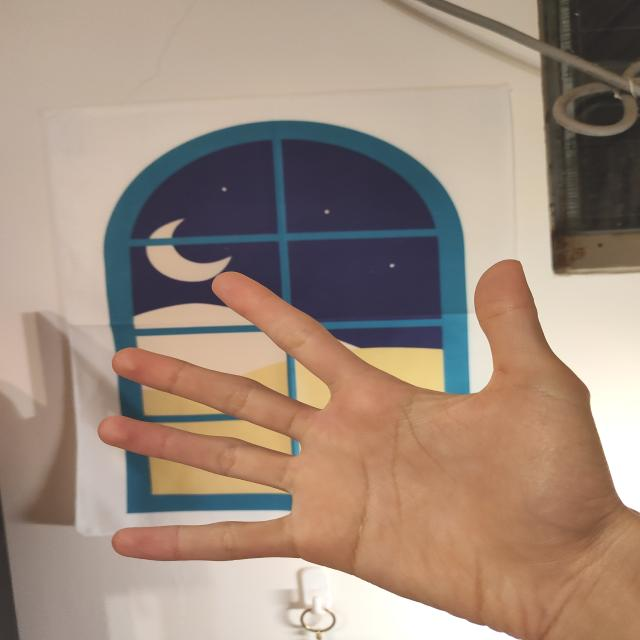no_glove: (83, 243, 632, 640)
